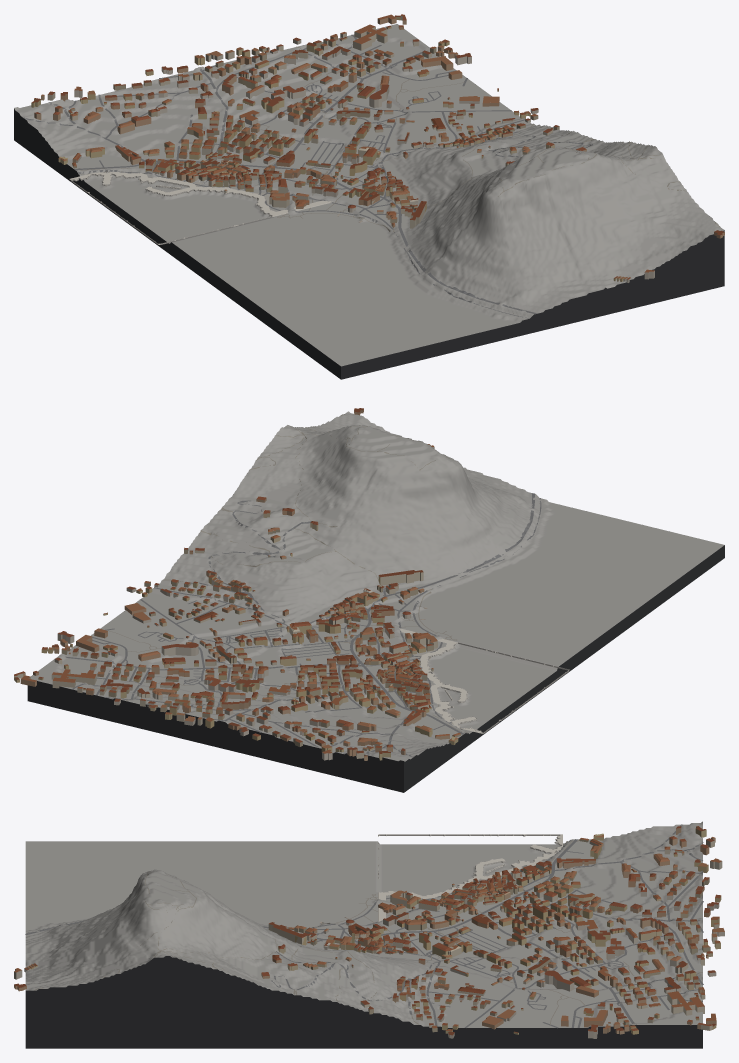
File: garda.glb
3 views of the same model, one above another, from view 1: azimuth 30°, elevation 25°; view 2: azimuth 150°, elevation 25°; view 3: azimuth 270°, elevation 25° (orthographic). The views are drawn at different scales.
Parts seen in each view (by area): view 1: terreno, edifici, strade, riva, sentieri; view 2: terreno, edifici, strade, riva, sentieri; view 3: terreno, edifici, strade, riva, sentieri.
Part boxes in pixels (box(x1,y1,x2,y2)): terreno: box(14, 24, 724, 379); edifici: box(31, 14, 724, 282); strade: box(23, 34, 593, 318); riva: box(69, 171, 362, 244); sentieri: box(74, 46, 720, 315); terreno: box(27, 411, 724, 792); edifici: box(14, 408, 460, 760); strade: box(59, 493, 541, 757); riva: box(399, 607, 569, 733); sentieri: box(106, 414, 539, 747); terreno: box(25, 821, 702, 1048); edifici: box(14, 826, 724, 1038); strade: box(25, 824, 703, 1028); riva: box(320, 834, 562, 923); sentieri: box(34, 839, 702, 1024).
Size of what is drawn, in the model's own units: 1103 by 262 by 1575.
